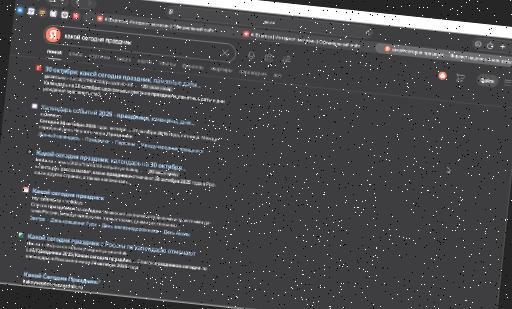yandex: (0, 16, 512, 309)
